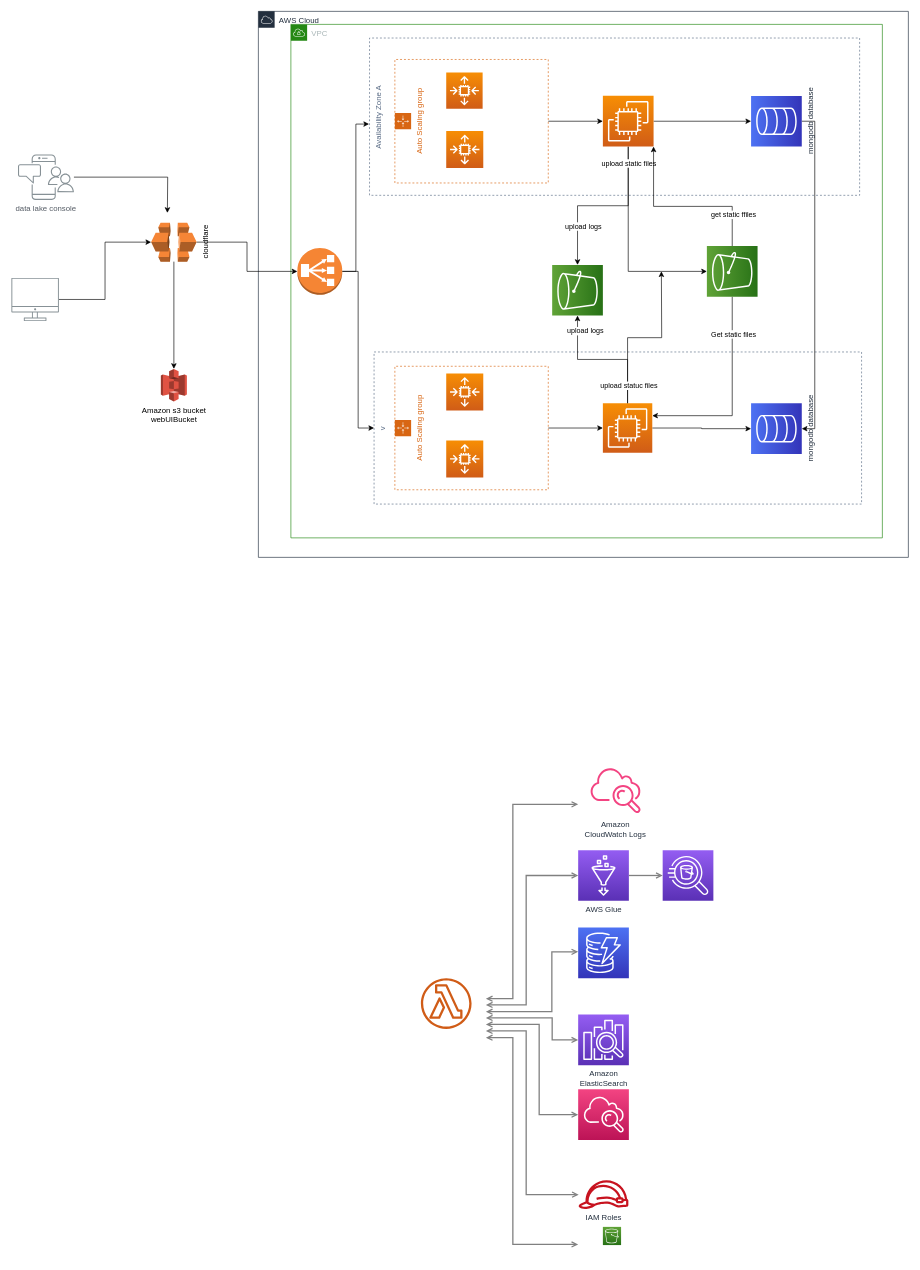
This 920x1270 diagram has some shape labels left out. Here are the shapes that lost their labels. From the top down, the centre of each, then its label:
At point (577, 290): "Amzon s3 System logs".
At point (732, 271): "Amazon s3 static storage".
At point (35, 299): "data lake CLI".
At point (687, 875): "Amazon Athena".
At point (603, 952): "Amazon DynamoDB".
At point (446, 1003): "Lambda function".
At point (603, 1114): "Amazon CloudWatch".
At point (611, 1235): "Amazon S3".
